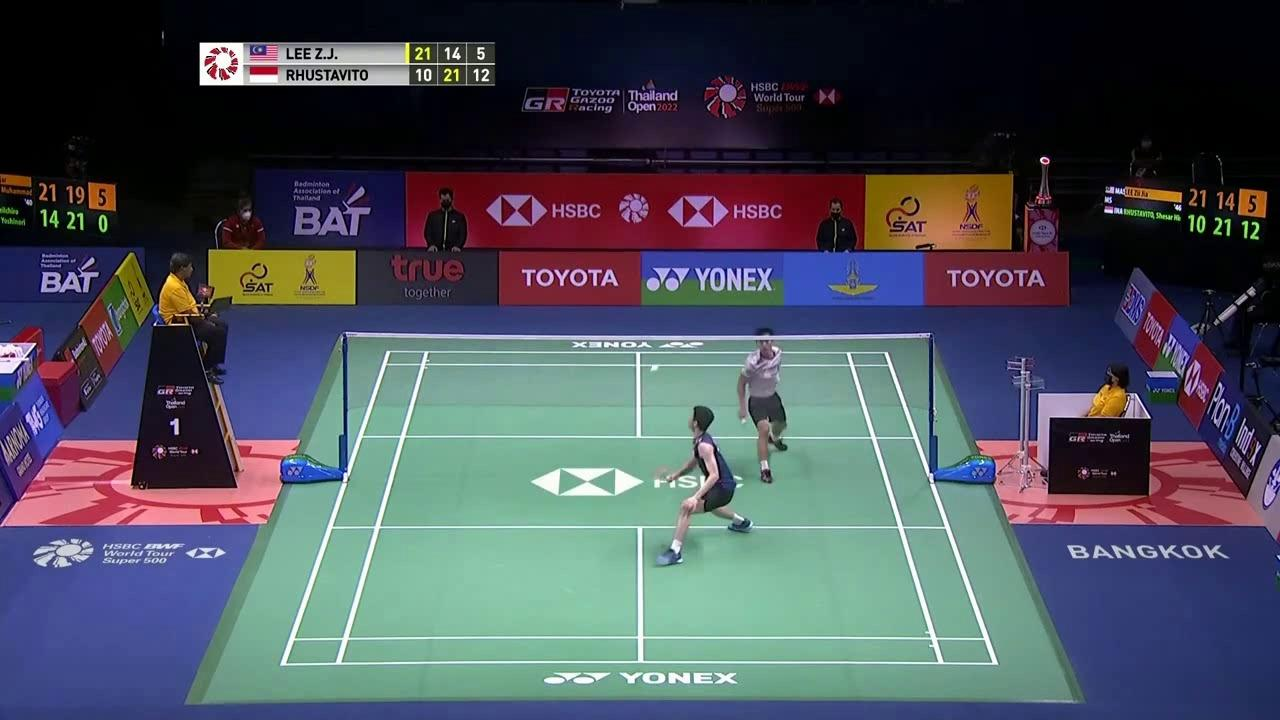racket: (735, 408, 758, 459), (647, 460, 680, 495)
shuttle: (648, 358, 662, 377)
